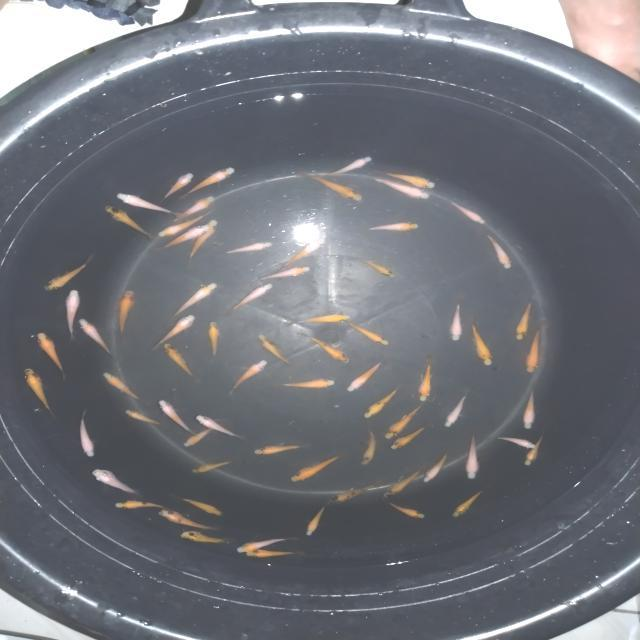nila: (296, 167, 364, 206), (112, 190, 182, 220), (370, 174, 434, 206), (180, 165, 238, 200), (100, 202, 152, 241), (20, 367, 58, 419), (148, 314, 197, 354), (296, 331, 352, 366), (170, 282, 220, 321), (42, 256, 92, 294), (78, 316, 119, 362), (154, 209, 216, 239), (159, 342, 203, 384), (288, 453, 346, 484), (324, 478, 382, 509), (152, 224, 210, 254), (345, 354, 388, 394), (226, 281, 276, 315), (89, 466, 141, 498), (182, 218, 218, 264), (226, 358, 270, 395), (96, 369, 142, 404), (466, 314, 494, 369), (338, 318, 392, 346), (35, 330, 67, 377), (382, 466, 426, 500), (155, 398, 194, 436), (156, 508, 220, 531), (380, 407, 424, 440), (168, 194, 216, 224), (450, 484, 491, 519), (279, 238, 326, 268), (324, 153, 374, 181), (192, 412, 242, 440), (254, 333, 295, 367), (114, 287, 138, 345), (378, 167, 438, 190), (388, 422, 432, 453), (362, 386, 404, 418), (523, 323, 549, 374), (172, 493, 224, 518), (230, 534, 295, 554), (157, 170, 196, 203), (74, 408, 98, 459), (350, 257, 398, 281), (62, 288, 82, 344), (420, 450, 452, 485), (484, 233, 514, 270), (284, 310, 352, 326), (255, 264, 314, 282), (382, 497, 428, 520), (523, 429, 549, 469), (120, 408, 166, 430), (513, 298, 536, 342), (220, 240, 276, 258), (275, 374, 338, 390), (180, 425, 223, 448), (444, 390, 470, 428), (416, 356, 437, 402), (463, 434, 483, 482), (446, 296, 466, 343), (178, 530, 232, 547), (449, 201, 487, 225), (520, 386, 540, 431), (358, 220, 420, 234), (240, 548, 302, 562), (190, 458, 238, 476), (302, 502, 326, 538), (358, 426, 378, 468), (492, 433, 538, 451), (252, 441, 306, 456), (203, 318, 220, 362), (112, 498, 170, 510)
